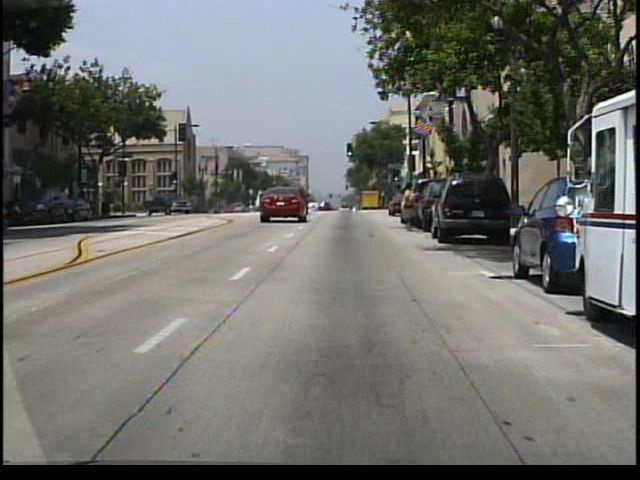person: (396, 181, 423, 233)
